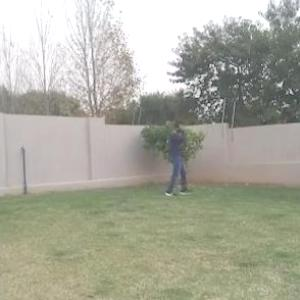follow: (167, 116, 189, 203)
